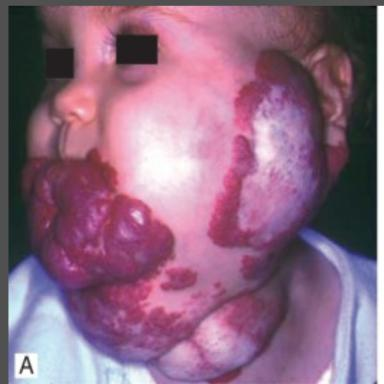Hemangiome: (29, 151, 194, 355), (235, 52, 323, 144), (209, 134, 255, 246), (161, 267, 197, 290)
